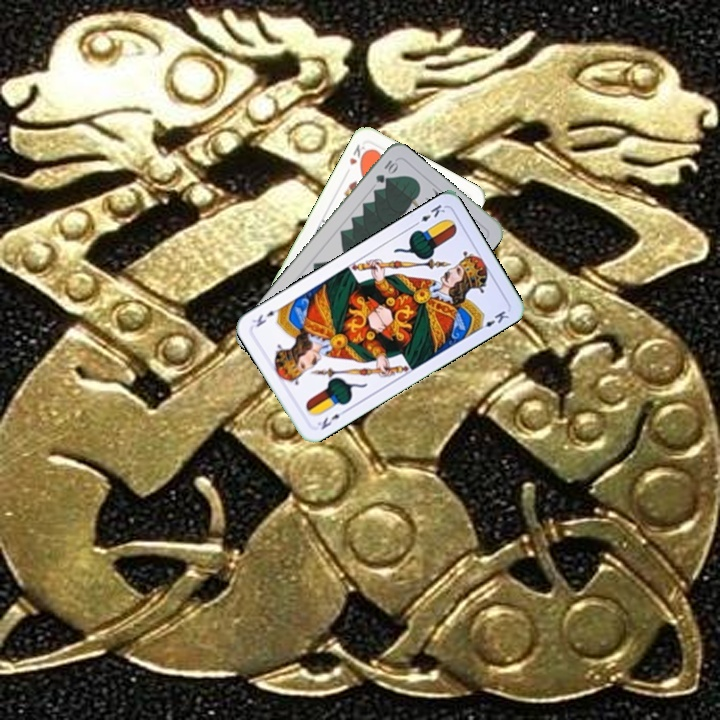EK: (409, 200, 448, 229), (313, 405, 349, 432)
G10: (371, 155, 400, 186)
HK: (345, 140, 370, 168)
